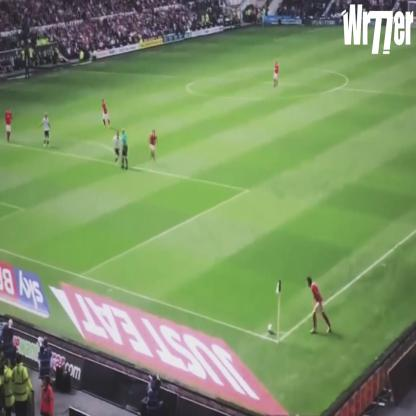corner kick: (237, 217, 347, 391)
